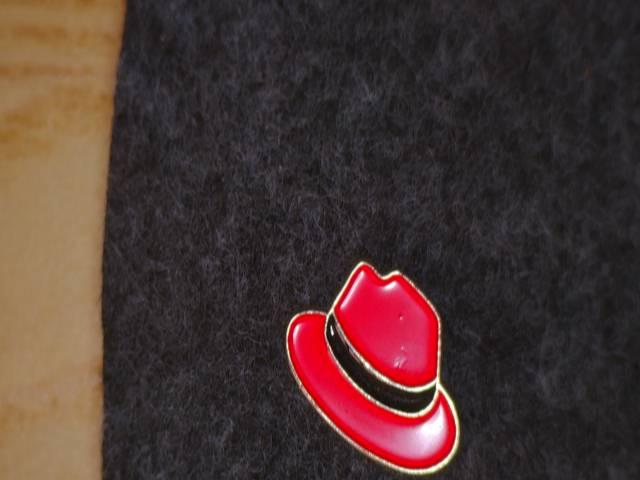Red-Hat: (266, 235, 471, 480)
